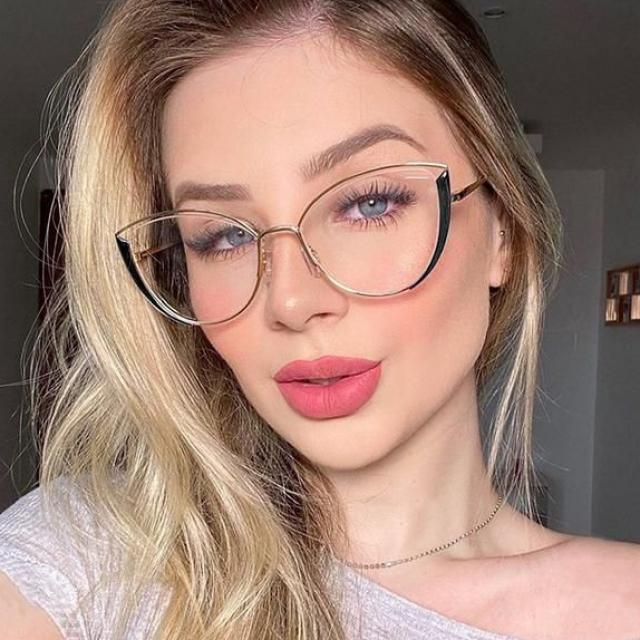Glasses: (115, 154, 486, 334)
